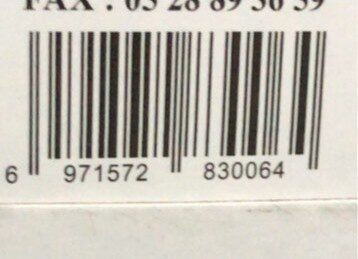Nour laayoune: (18, 13, 340, 246)
